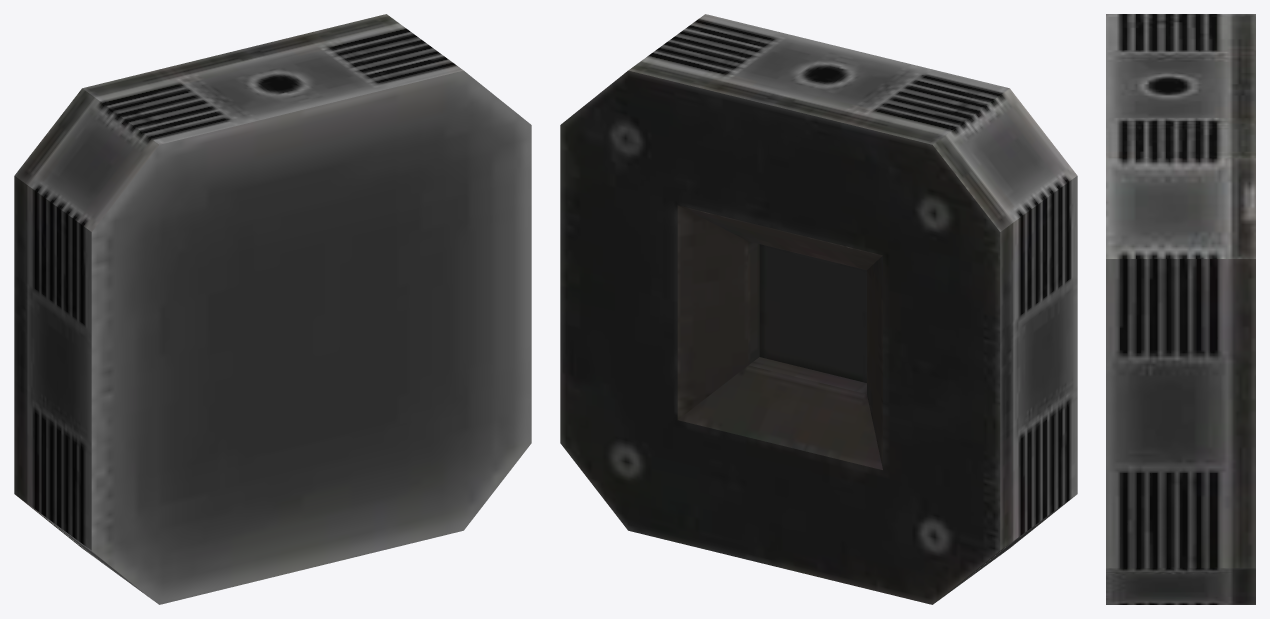
File: laserdetector.glb
The picture shows the model from 3 angles, left to right: view 1: azimuth 30°, elevation 25°; view 2: azimuth 150°, elevation 25°; view 3: azimuth 270°, elevation 25°; orthographic projection. The views are drawn at different scales.
Visible parts, largest first — view 1: LaserDetector_LOD0; view 2: LaserDetector_LOD0; view 3: LaserDetector_LOD0.
Part boxes in pixels (bbox=[...]): LaserDetector_LOD0: bbox=[14, 14, 531, 604]; LaserDetector_LOD0: bbox=[560, 14, 1077, 604]; LaserDetector_LOD0: bbox=[1106, 14, 1255, 604].
Size of the model in its own units: 0.0766 by 0.0766 by 0.0233.
Materials: 1 (1 with a texture image).
